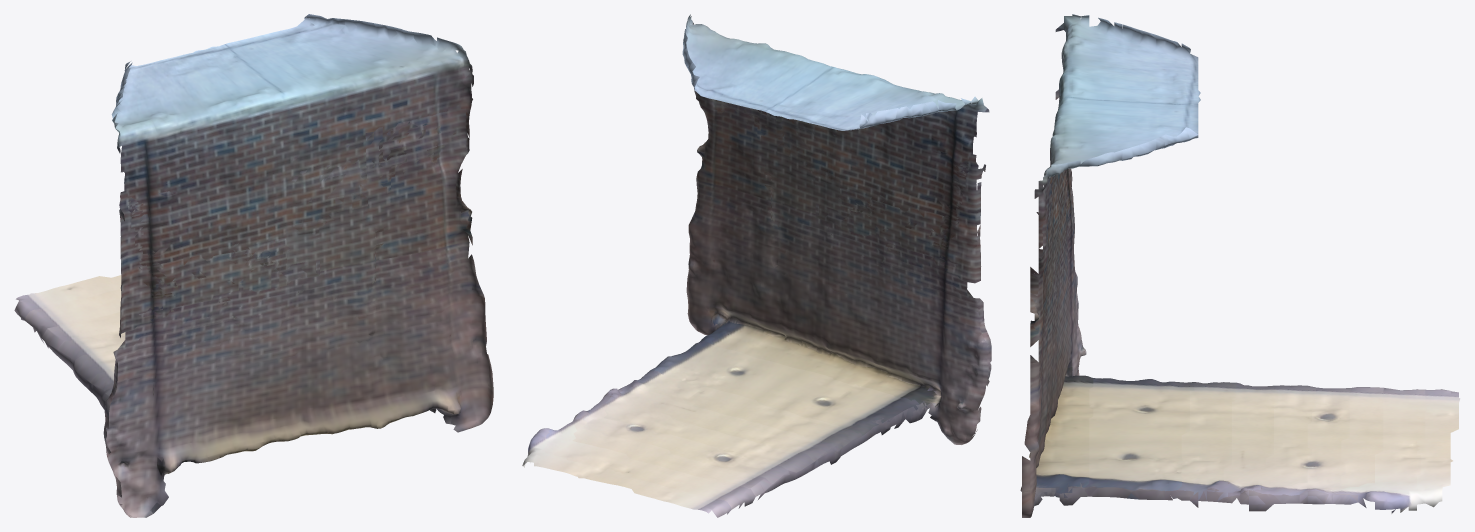
File: Outside3.obj
3 views of the same model, side by side, from view 1: azimuth 30°, elevation 25°; view 2: azimuth 150°, elevation 25°; view 3: azimuth 270°, elevation 25° (orthographic). The views are drawn at different scales.
Size of the model in its own units: 4.25 by 4.51 by 4.66.
Materials: 1 (1 with a texture image).
